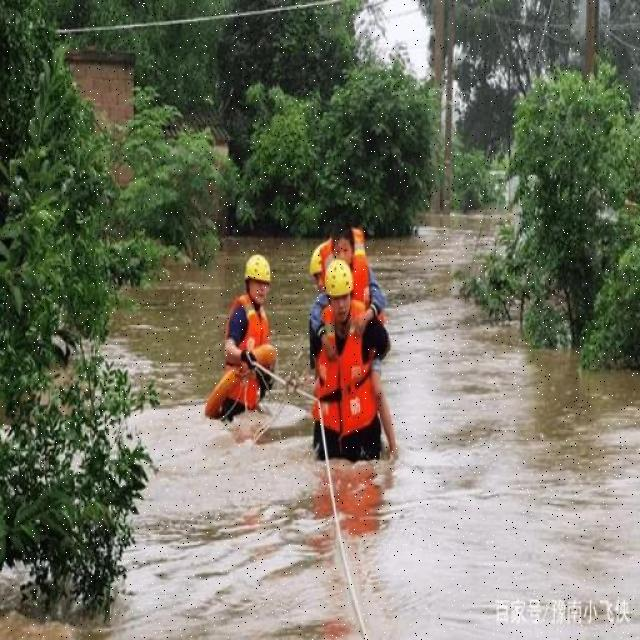rescuer: (309, 261, 399, 488), (219, 241, 288, 458)
